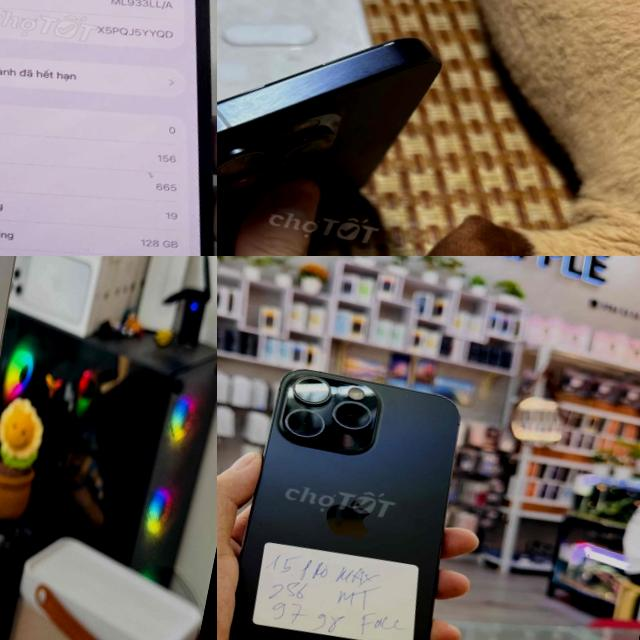gen_12_13: (0, 0, 217, 256)
gen_15: (217, 327, 494, 640), (217, 0, 489, 256)
